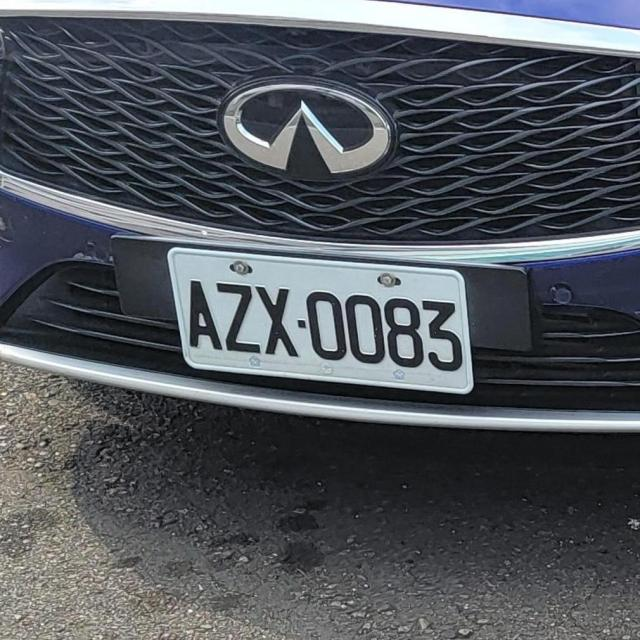W: (169, 246, 477, 394)
